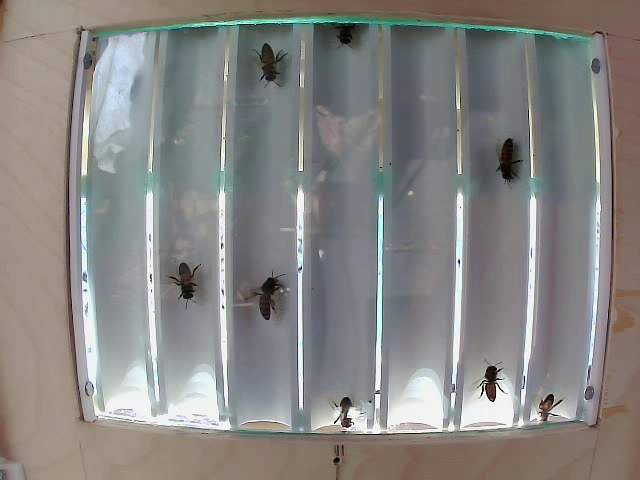bee: (483, 120, 526, 193), (249, 270, 299, 327), (179, 249, 219, 302), (531, 383, 570, 428), (251, 44, 284, 94), (470, 357, 508, 399), (329, 17, 363, 56), (324, 392, 363, 425)
